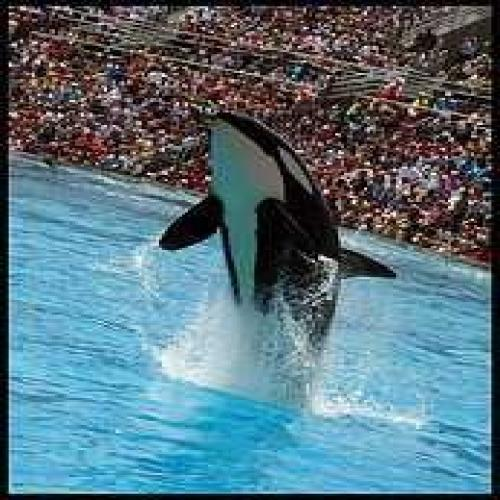killer_whale-endangered: (155, 104, 400, 413)
